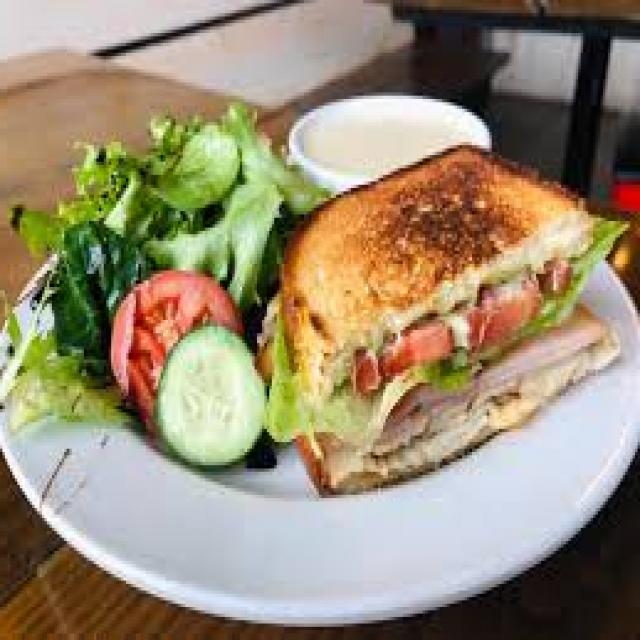Sandwich: (272, 142, 623, 498)
